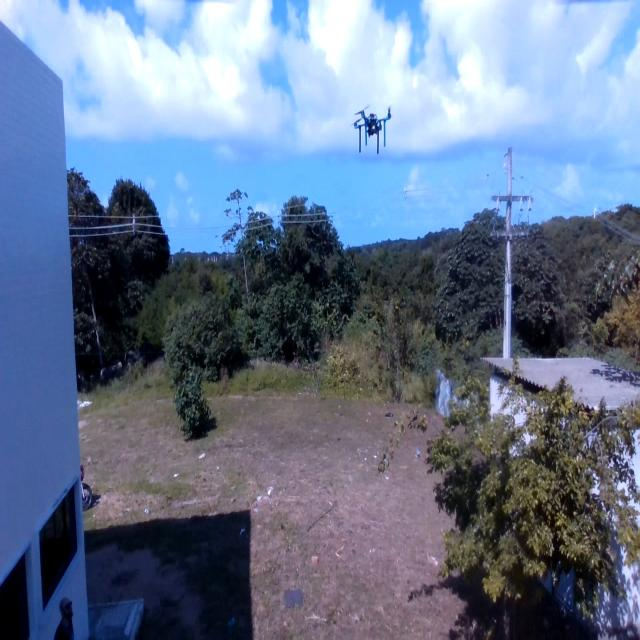-uav-: (345, 85, 402, 188)
